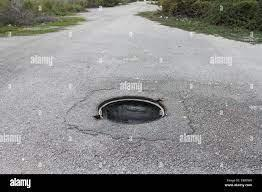closed manhole-not overflowing-: (89, 91, 170, 129)
